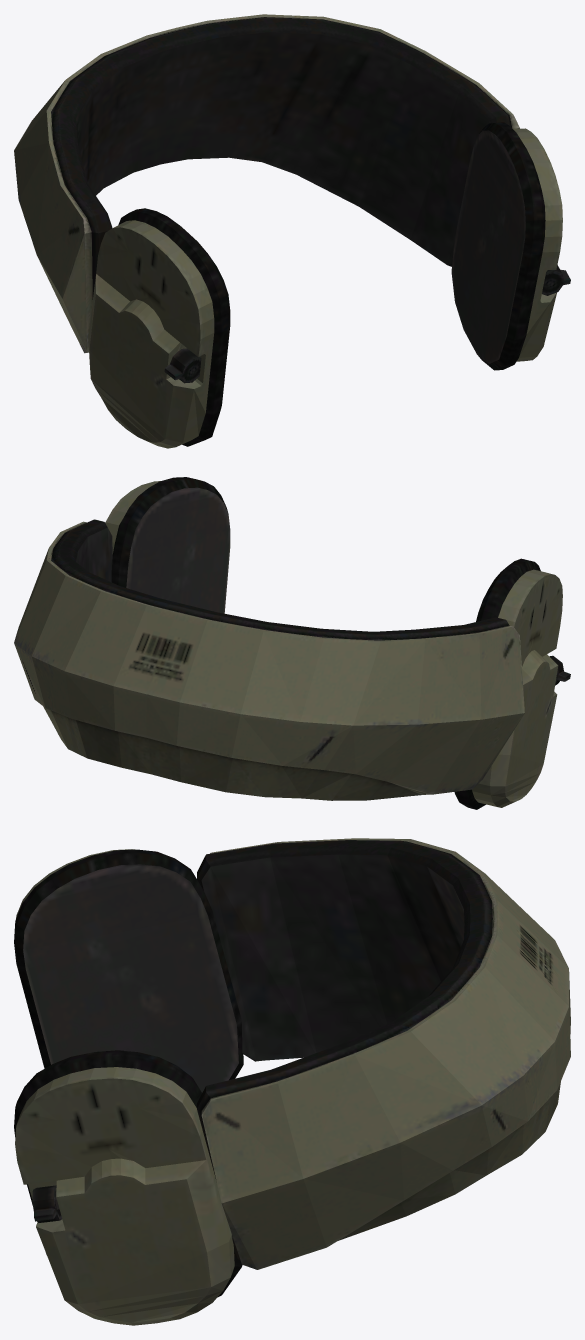
Rendered from head_gear.obj.
3 renders of one model, top to bottom at view 1: azimuth 30°, elevation 25°; view 2: azimuth 150°, elevation 25°; view 3: azimuth 270°, elevation 25°, orthographic. The views are drawn at different scales.
Visible parts, largest first — view 1: 3896cf50_obj; view 2: 3896cf50_obj; view 3: 3896cf50_obj.
Boxes of the visible parts, x1,y1,x2,y2 form: 3896cf50_obj: (14, 14, 570, 448); 3896cf50_obj: (14, 477, 570, 809); 3896cf50_obj: (14, 838, 570, 1325).
Size of the model in its own units: 0.1938 by 0.105 by 0.1711.
1 material, 1 textured.
